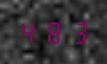eight: (42, 20, 64, 44)
four: (18, 20, 40, 44)
three: (65, 20, 87, 44)
